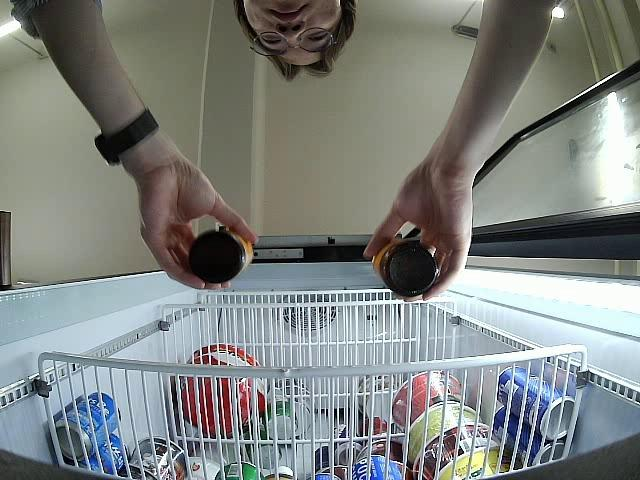00_hand: (135, 164, 258, 291), (361, 167, 472, 301)
17_vita500: (373, 238, 438, 297), (189, 229, 253, 285)
